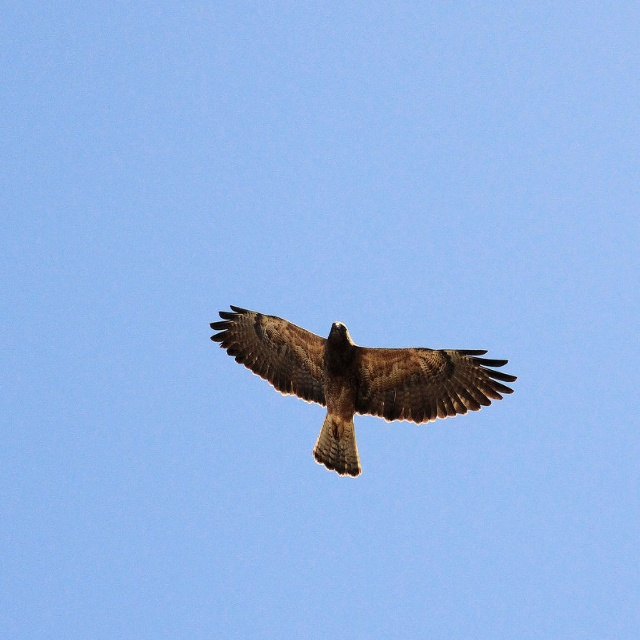Eagle: (210, 305, 517, 474)
